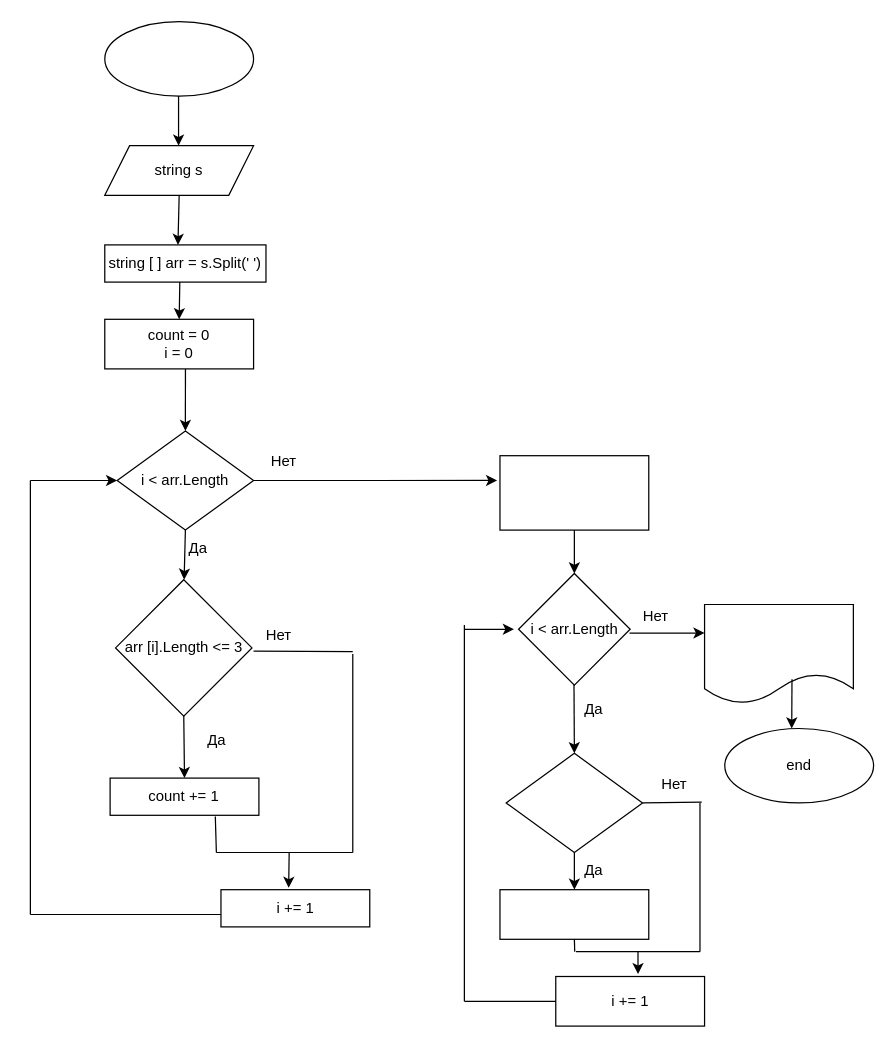
Some shapes in this 895 by 1048 pixel diagram are drawn without their labels. The shapes that lost their labels are listed below. From the top down, each one's box as (x1, y1, x2, y2) in pixels, then its label:
(104, 20, 254, 96): start
(499, 454, 649, 530): k = 0 i = 0 string[ ] newArray = new string [count]
(703, 603, 853, 704): print newArray
(505, 752, 643, 852): arr[i].Length <= 3
(499, 888, 649, 939): newArray[k] = arr[i] k += 1
